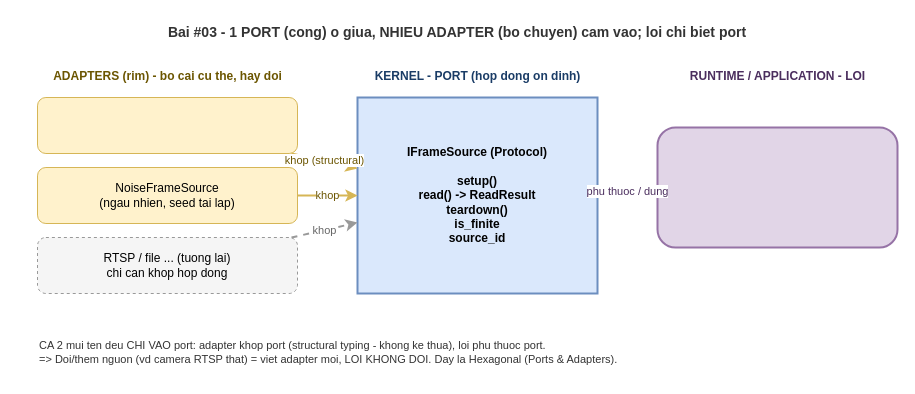
This 915x394 diagram has some shape labels left out. The centre of each missing label's shape, as x and y in pixels:
FakeFrameSource (frame doan truoc - test): the point at 167,125
Pipeline / Executor (#04) chi biet PORT KHONG biet adapter nao: the point at 777,187
